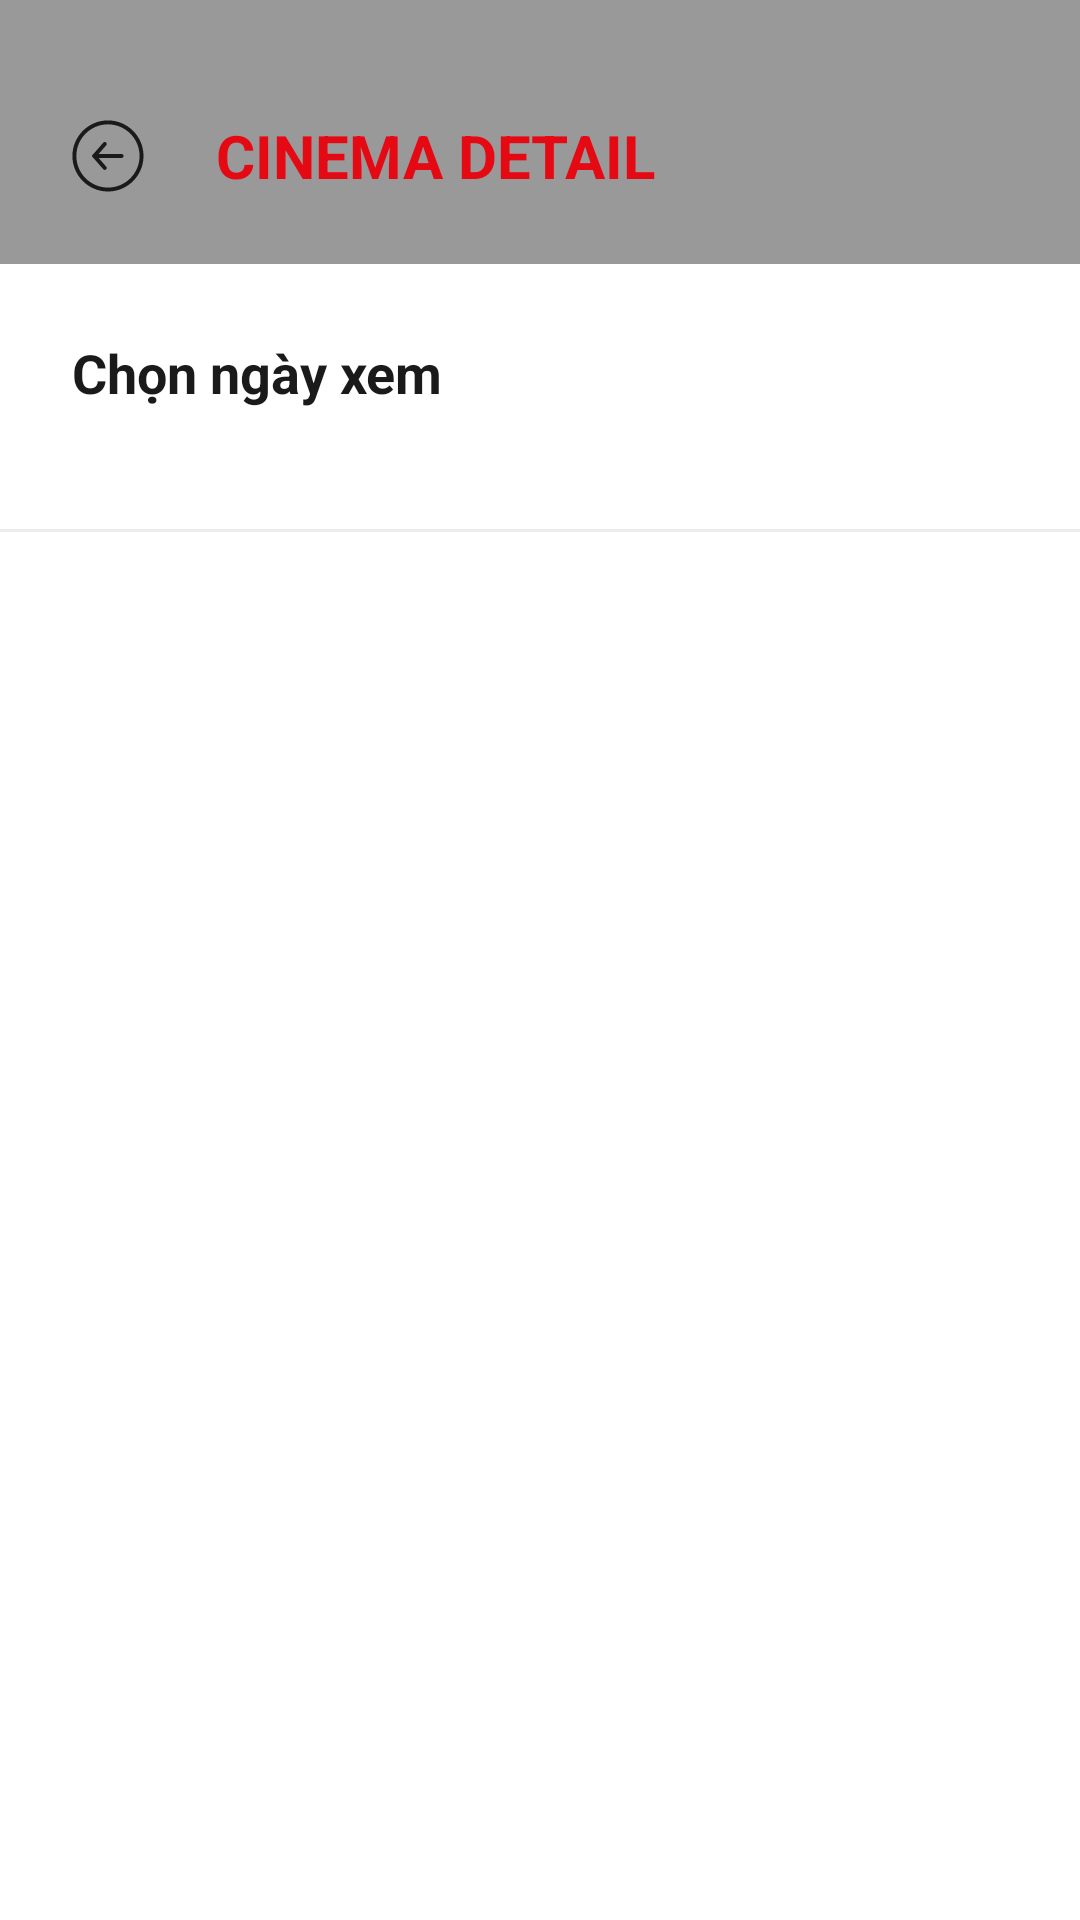

Where to tap for icons on this 1080x1920 app screen, as [x,y]:
back: [108,156]
